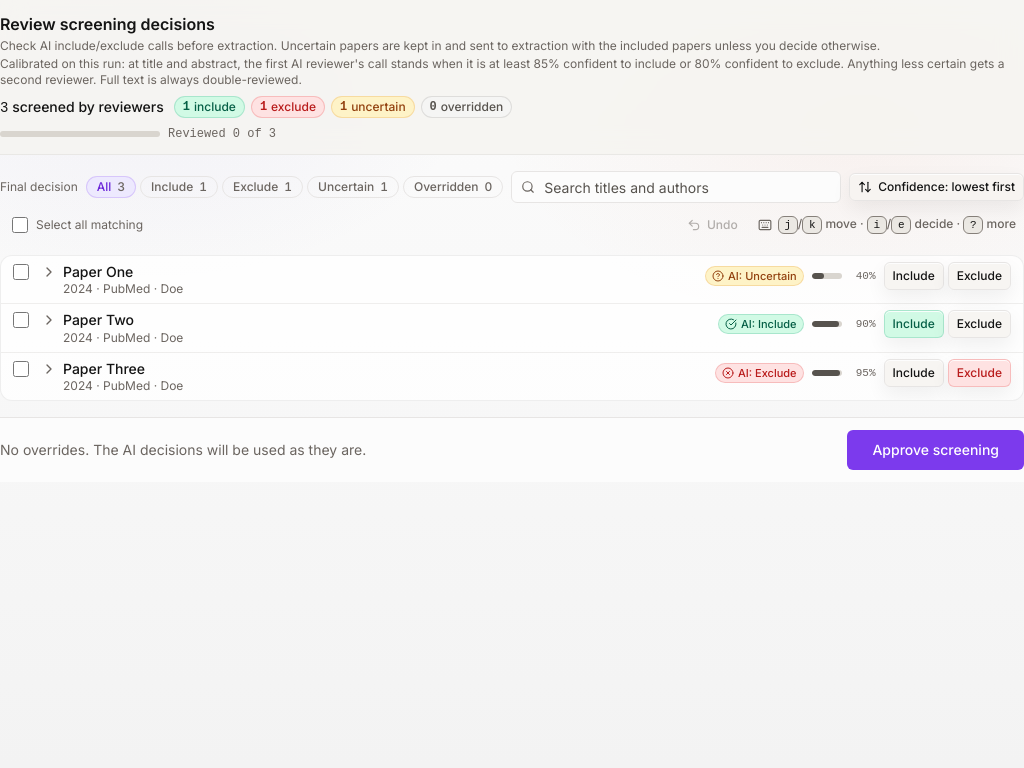
Test: ScreeningReviewView › keeps overrides and offers retry when approval fails
What coordinates should you click on to do the following:
click the button "Exclude" in the row of "90"
I would click on:
 (979, 324)
Its box is [948,310,1011,338].
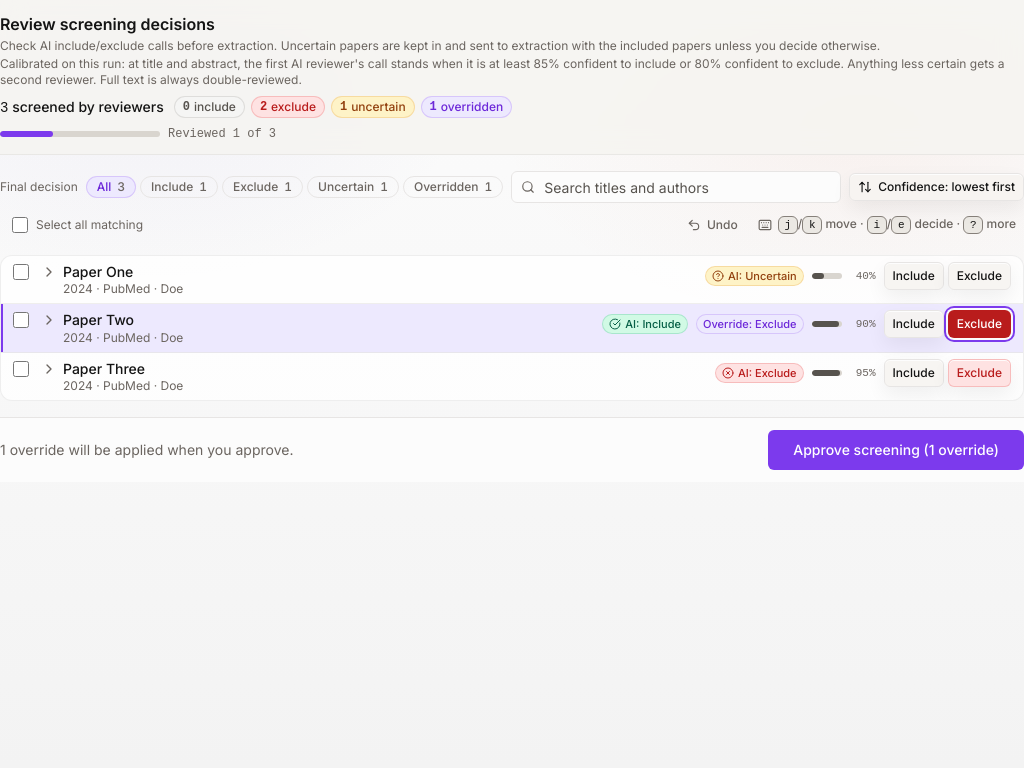
What coordinates should you click on to do the following:
click the button "Approve screening (1 override)"
I would click on:
 (896, 450)
Its box is [768,430,1023,470].
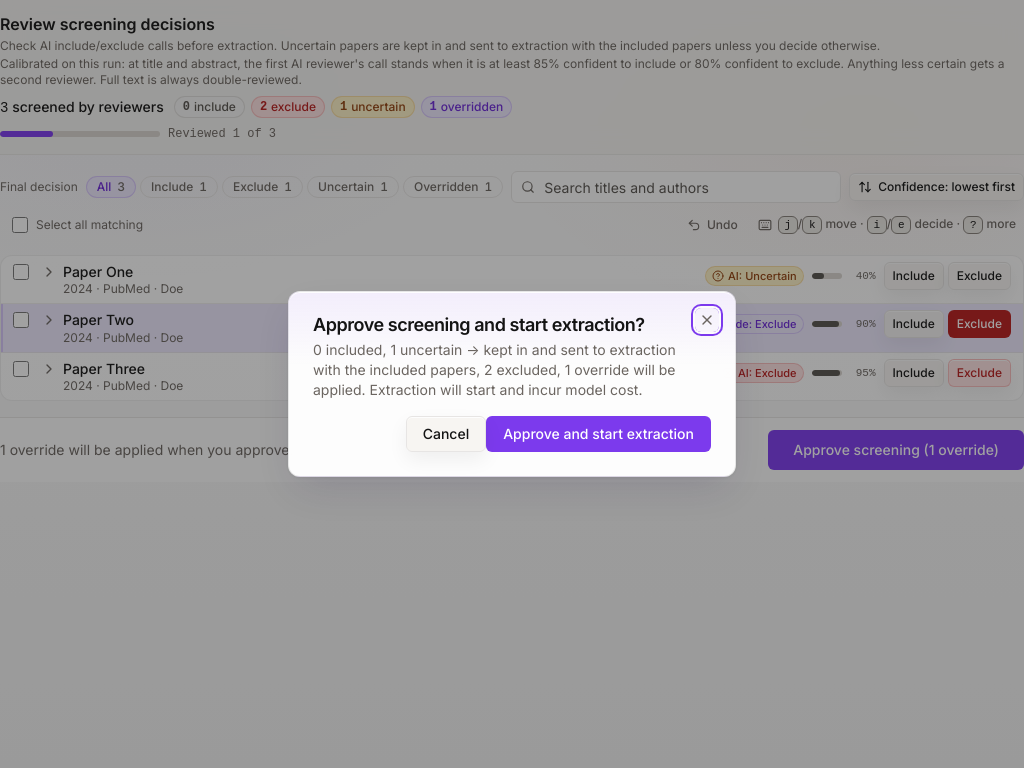
What coordinates should you click on to do the following:
click the button "Approve and start extraction"
I would click on:
 (599, 434)
Its box is [486,416,711,452].
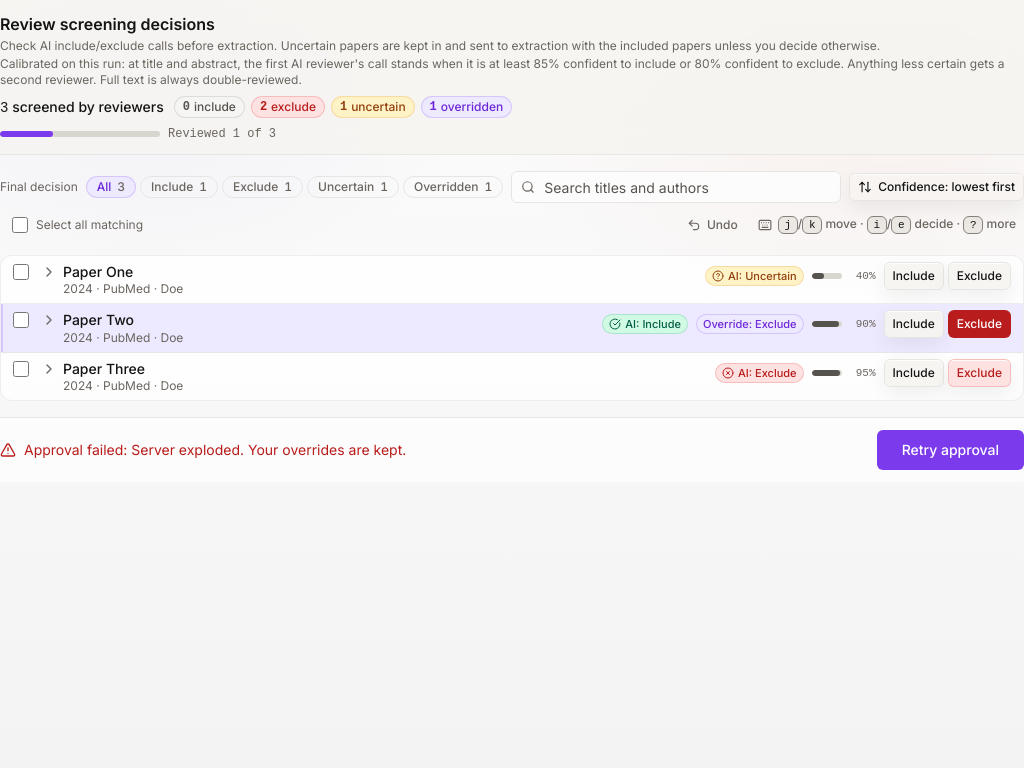
Expected: the button "Retry approval" is enabled, [877,430,1023,470]
Expected: the text "Override: Exclude" is shown, [696,314,804,334]
Expected: the message shows "Approval failed: Server exploded", [0,441,406,458]
